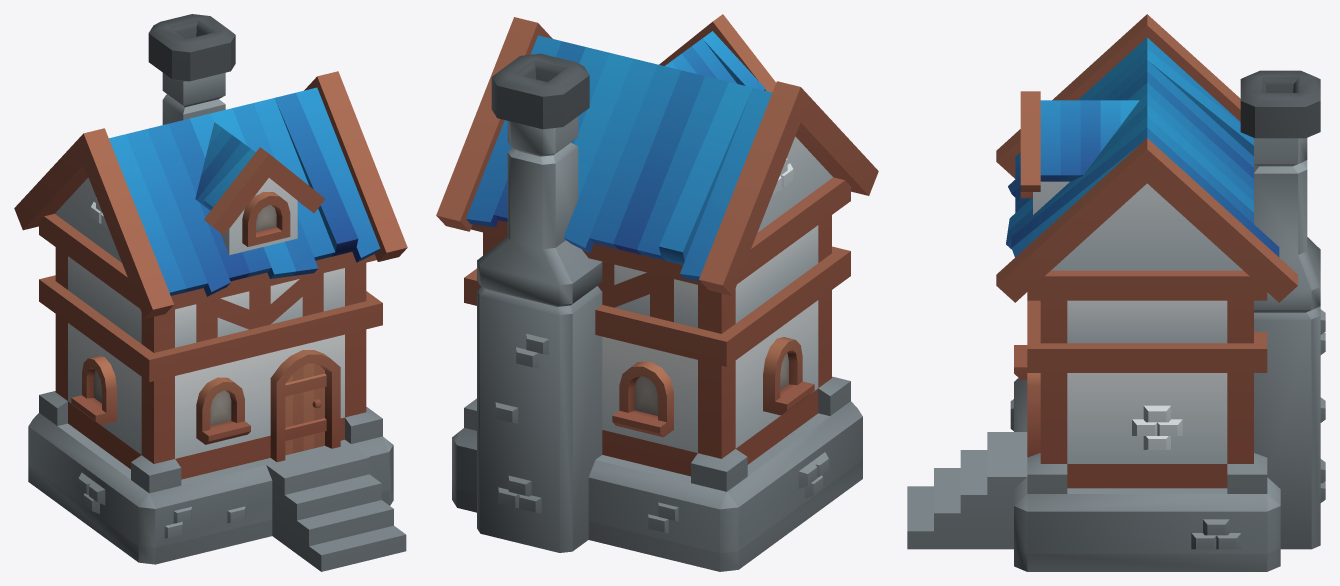
The model's file is task-building-blue.glb.
3 renders of one model, left to right at view 1: azimuth 30°, elevation 25°; view 2: azimuth 150°, elevation 25°; view 3: azimuth 270°, elevation 25°, orthographic. The views are drawn at different scales.
Visible parts, largest first — view 1: building_home_B_blue; view 2: building_home_B_blue; view 3: building_home_B_blue.
Boxes of the visible parts, <box> form: building_home_B_blue: <box>14,14,407,571</box>; building_home_B_blue: <box>436,14,878,571</box>; building_home_B_blue: <box>907,14,1325,571</box>.
Size of the model in its own units: 0.8749 by 1.28 by 1.1.
Materials: 1 (1 with a texture image).
